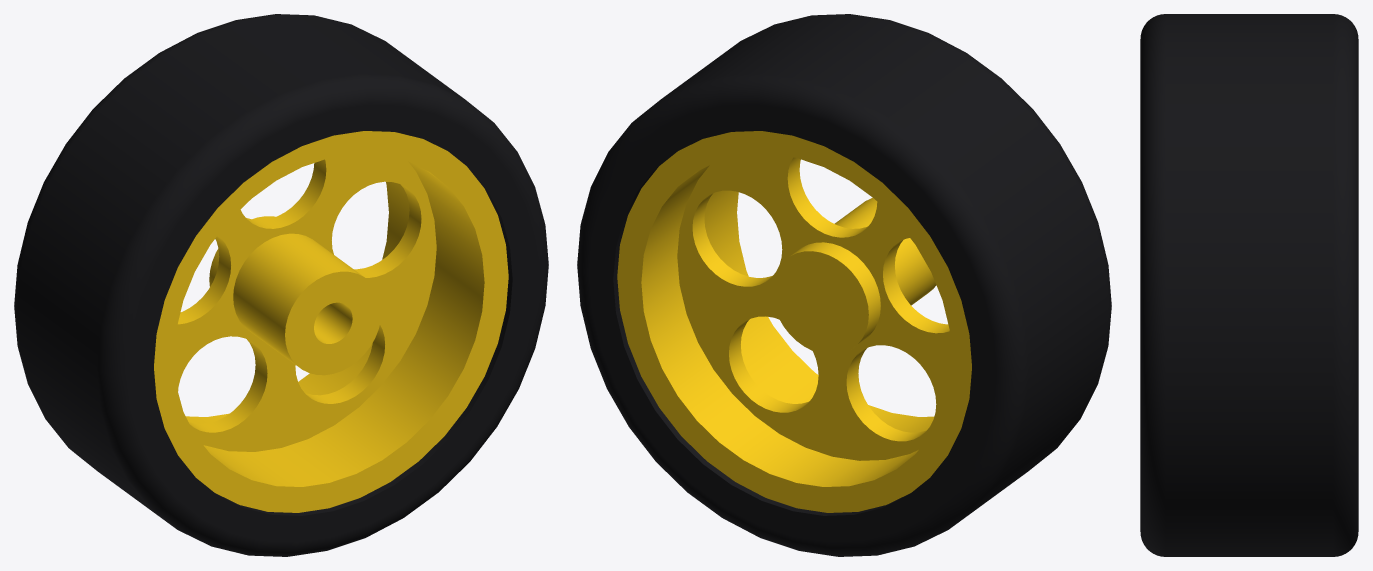
File: roda_65mm.glb
3 renders of one model, left to right at view 1: azimuth 30°, elevation 25°; view 2: azimuth 150°, elevation 25°; view 3: azimuth 270°, elevation 25°, orthographic. The views are drawn at different scales.
Parts seen in each view (by area): view 1: pneu, aro; view 2: pneu, aro; view 3: pneu.
Part boxes in pixels (box(x1,y1,x2,y2)): pneu: box(14, 14, 548, 556); aro: box(154, 131, 508, 512); pneu: box(577, 14, 1111, 556); aro: box(617, 131, 971, 512); pneu: box(1140, 14, 1358, 556).
Size of the model in its own units: 65 by 65 by 26.
